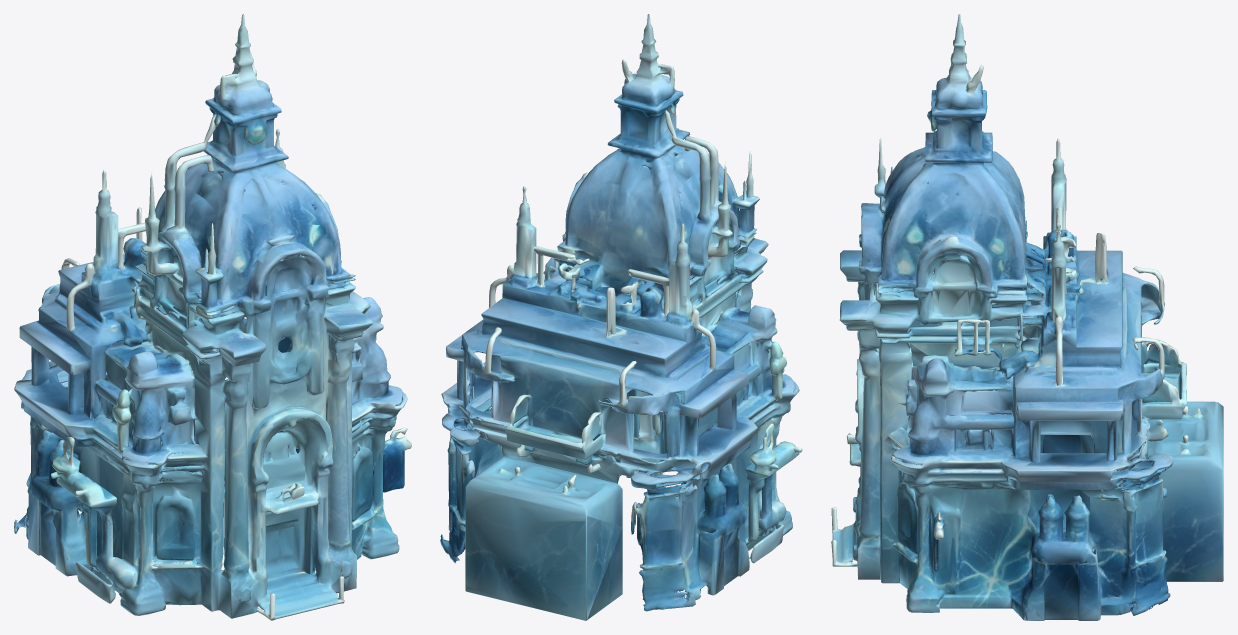
The model's file is ice_palace.glb.
The picture shows the model from 3 angles, left to right: view 1: azimuth 30°, elevation 25°; view 2: azimuth 150°, elevation 25°; view 3: azimuth 270°, elevation 25°; orthographic projection. The views are drawn at different scales.
Parts seen in each view (by area): view 1: tripo_node_77c1f5b6-888a-413e-9aff-65ac41b564b0; view 2: tripo_node_77c1f5b6-888a-413e-9aff-65ac41b564b0; view 3: tripo_node_77c1f5b6-888a-413e-9aff-65ac41b564b0.
Boxes of the visible parts, bbox=[...] form: tripo_node_77c1f5b6-888a-413e-9aff-65ac41b564b0: bbox=[14, 14, 411, 620]; tripo_node_77c1f5b6-888a-413e-9aff-65ac41b564b0: bbox=[440, 14, 802, 620]; tripo_node_77c1f5b6-888a-413e-9aff-65ac41b564b0: bbox=[831, 14, 1223, 620].
Bounding box in the file's own units: 0.6144 × 0.9997 × 0.6587.
Materials: 1 (1 with a texture image).
